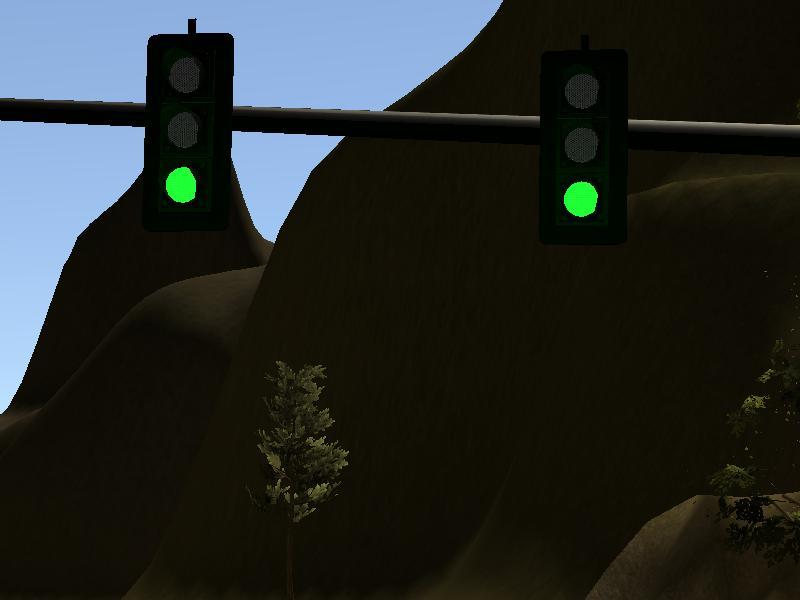Green: (537, 48, 630, 247), (146, 35, 234, 232)
